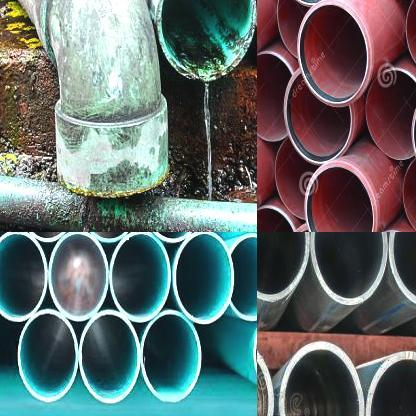pipe: (156, 0, 255, 81), (298, 2, 371, 107), (284, 70, 354, 165), (279, 341, 364, 416), (140, 310, 202, 402), (310, 232, 387, 306), (172, 232, 234, 323), (80, 310, 140, 404), (108, 232, 170, 322), (18, 309, 78, 402), (48, 232, 108, 321), (304, 161, 377, 232), (366, 69, 416, 160), (0, 232, 46, 321), (257, 232, 310, 301), (365, 351, 416, 416), (257, 53, 292, 141), (228, 233, 257, 322), (388, 232, 416, 308), (274, 0, 304, 58), (257, 206, 294, 232)
